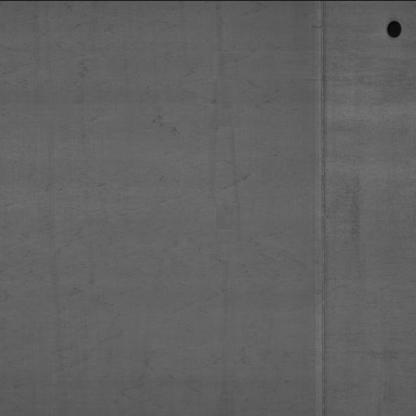punching_hole: (376, 17, 408, 43)
silk_spot: (6, 9, 262, 409)
welding_line: (308, 0, 336, 415)
